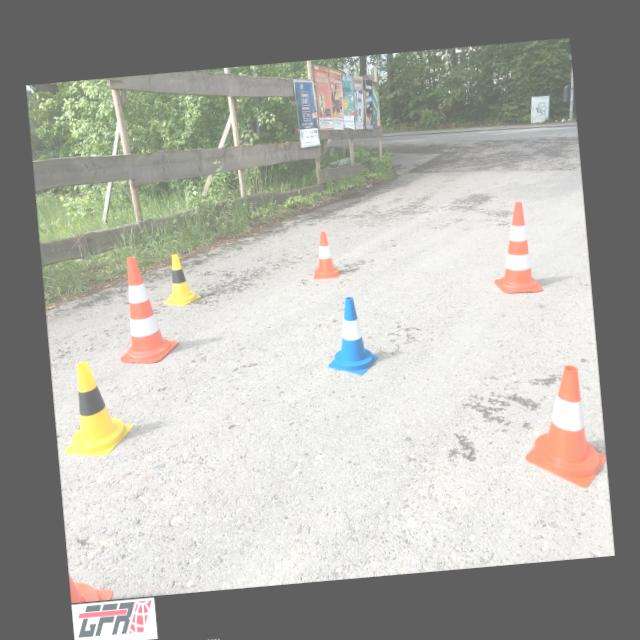blue_cone: (322, 294, 380, 378)
large_orange_cone: (112, 253, 178, 365), (487, 200, 542, 296)
orange_cone: (518, 362, 608, 492), (310, 230, 339, 279)
yellow_cone: (56, 357, 135, 459), (160, 252, 200, 307)
